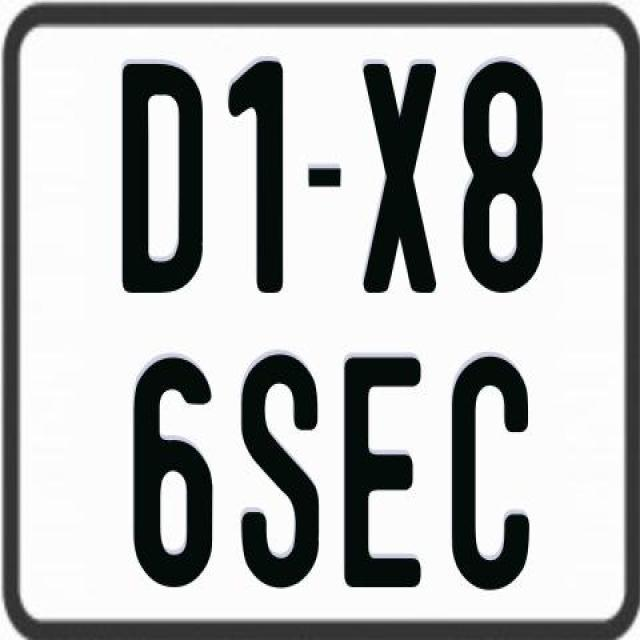1: (228, 59, 289, 299)
6: (134, 352, 214, 584)
8: (458, 56, 542, 290)
C: (448, 356, 526, 590)
D: (122, 59, 205, 293)
E: (340, 356, 424, 588)
S: (241, 350, 319, 588)
X: (358, 59, 434, 288)
